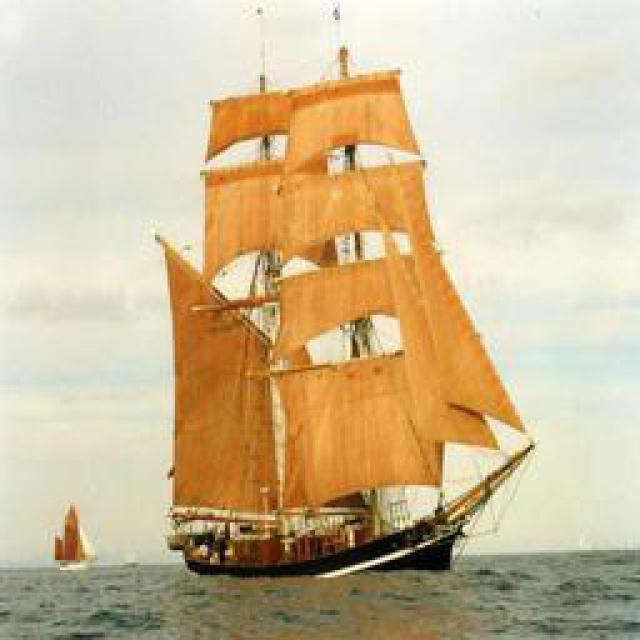Ship: (158, 57, 536, 587)
